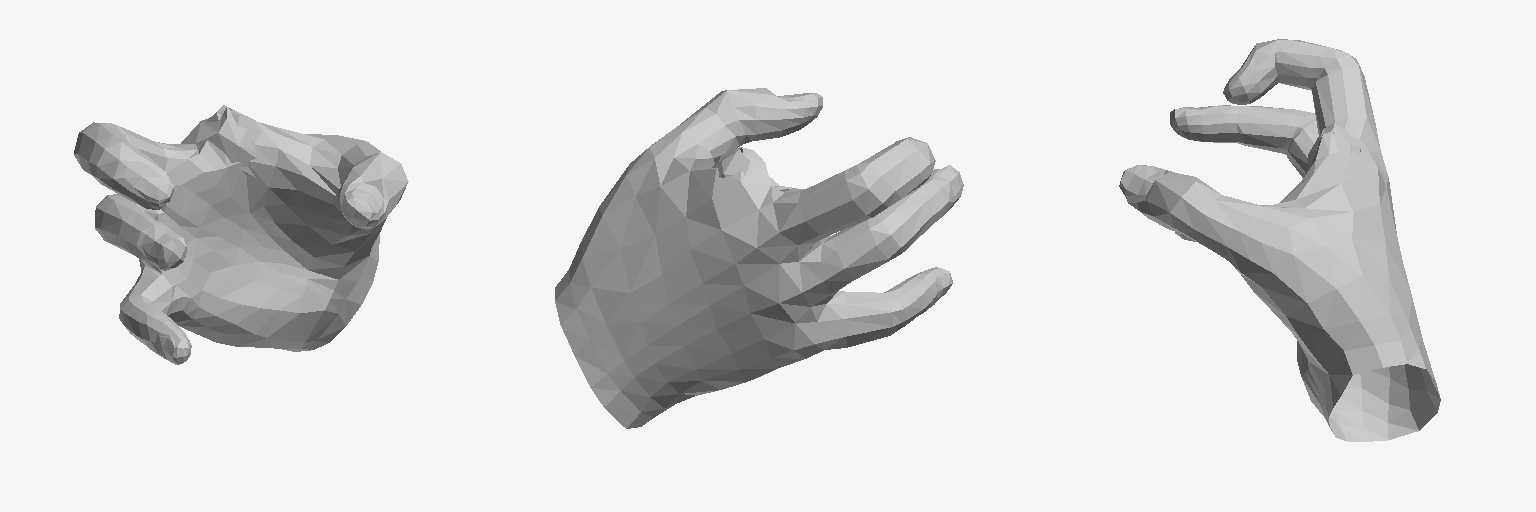
The model's file is wo2_finger_position_param.obj.
3 views of the same model, side by side, from view 1: azimuth 30°, elevation 25°; view 2: azimuth 150°, elevation 25°; view 3: azimuth 270°, elevation 25° (orthographic).
Size of the model in its own units: 0.138 by 0.1219 by 0.1194.